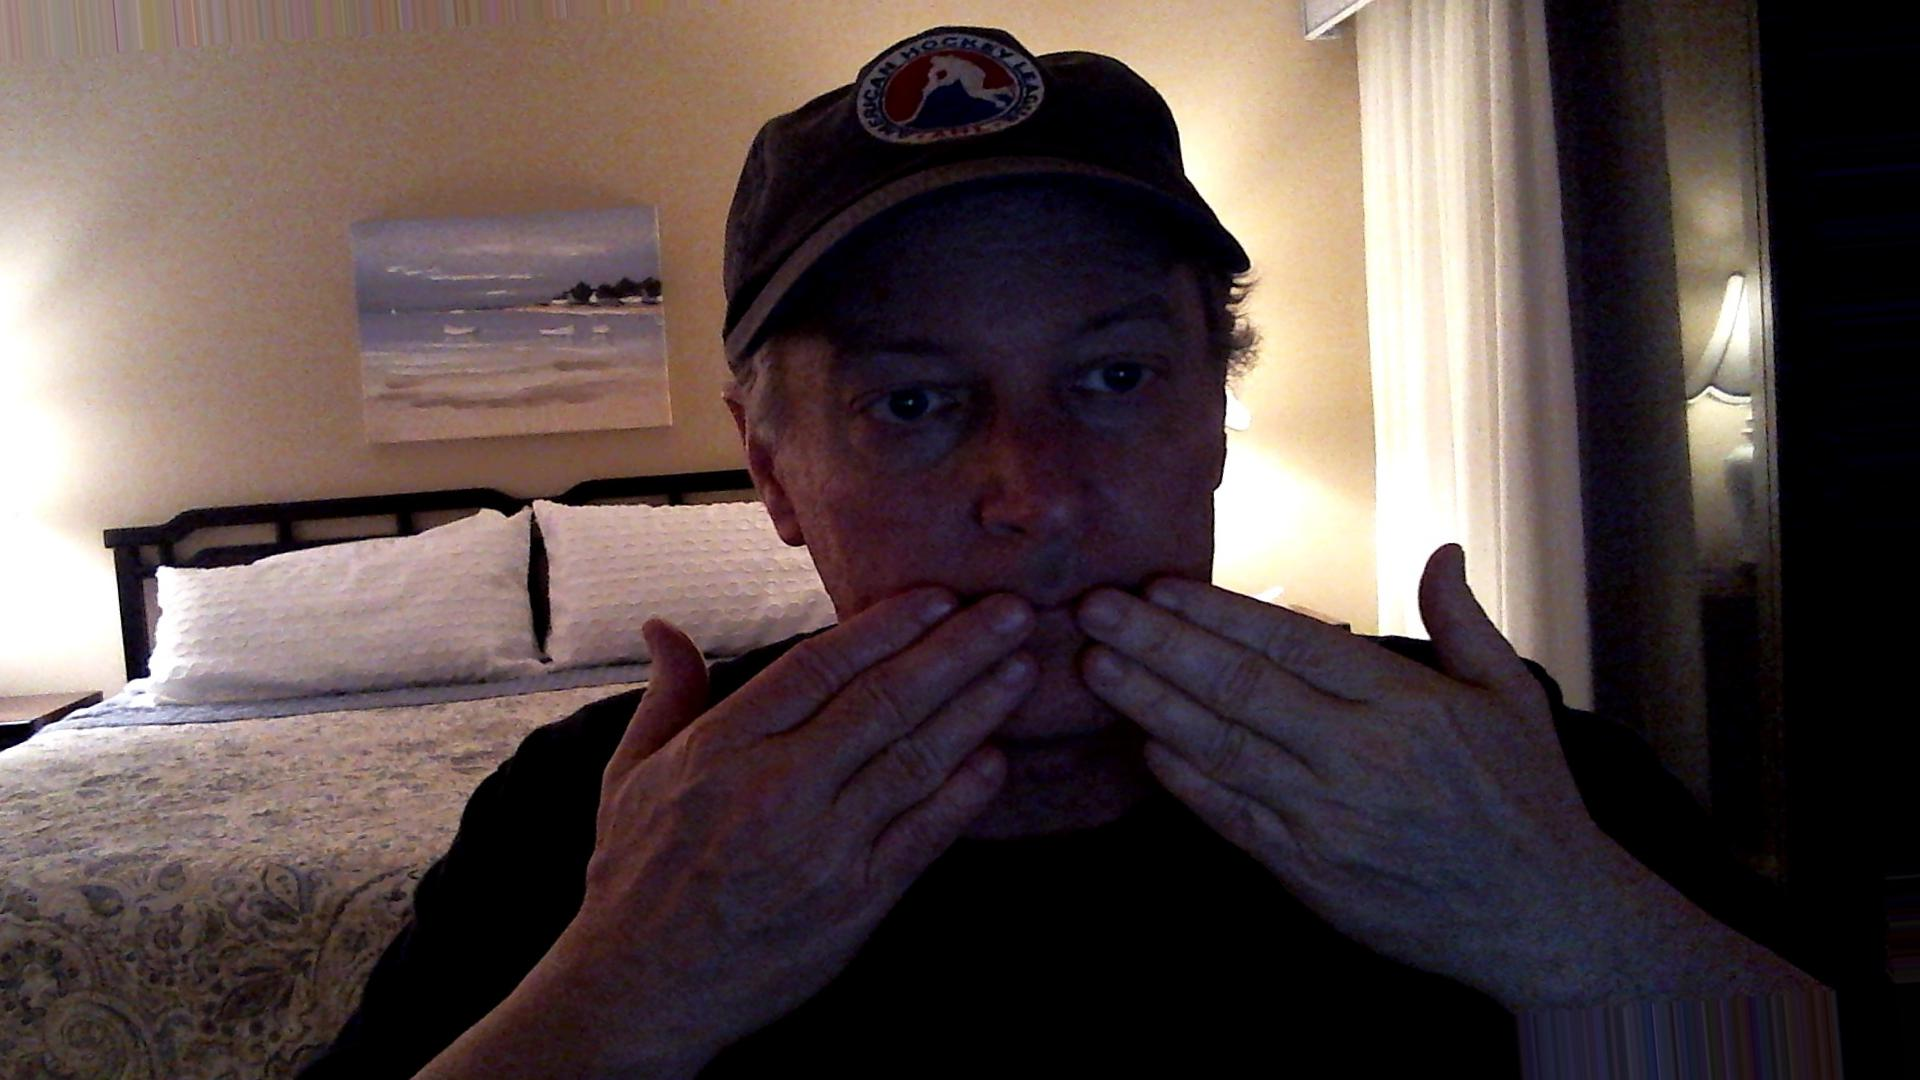Thank You: (578, 538, 1652, 998)
